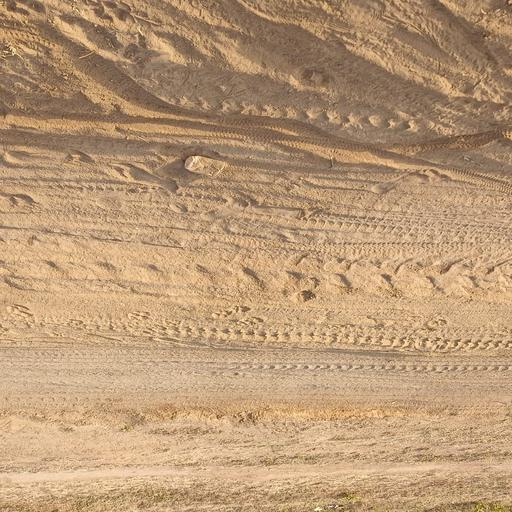vehicle_track: (0, 110, 512, 407)
